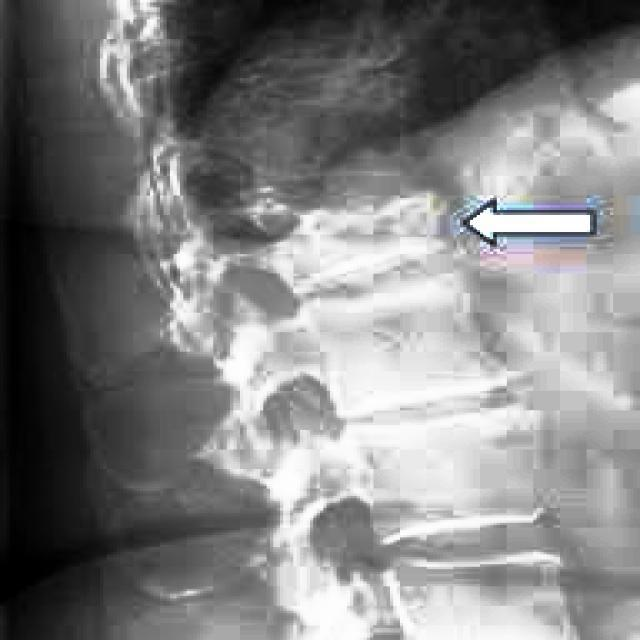Compression-Crush Fracutre: (278, 186, 467, 247)
